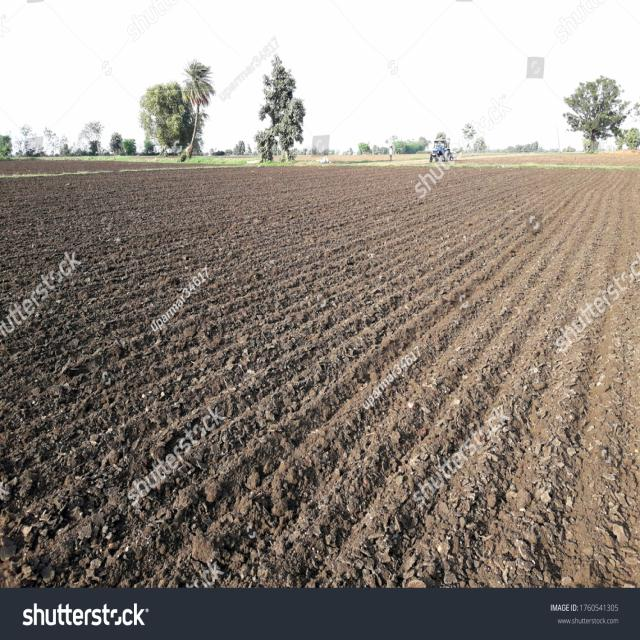Black Soil: (17, 192, 612, 545)
